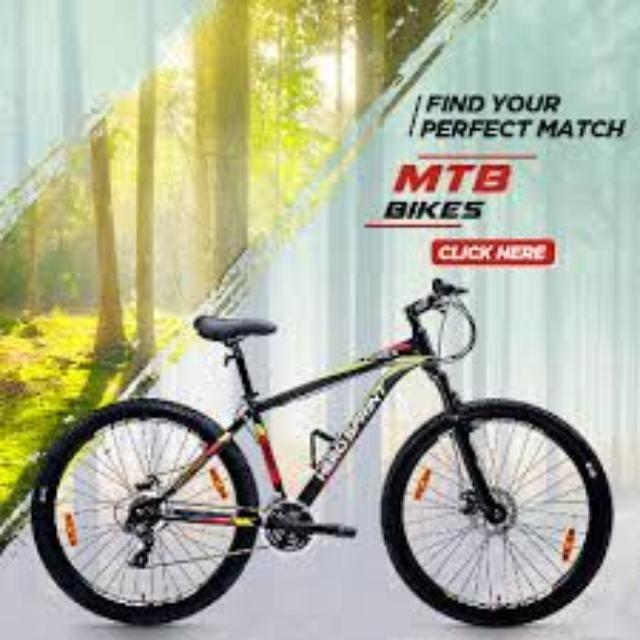obstacle: (33, 272, 640, 640), (639, 272, 640, 640)
